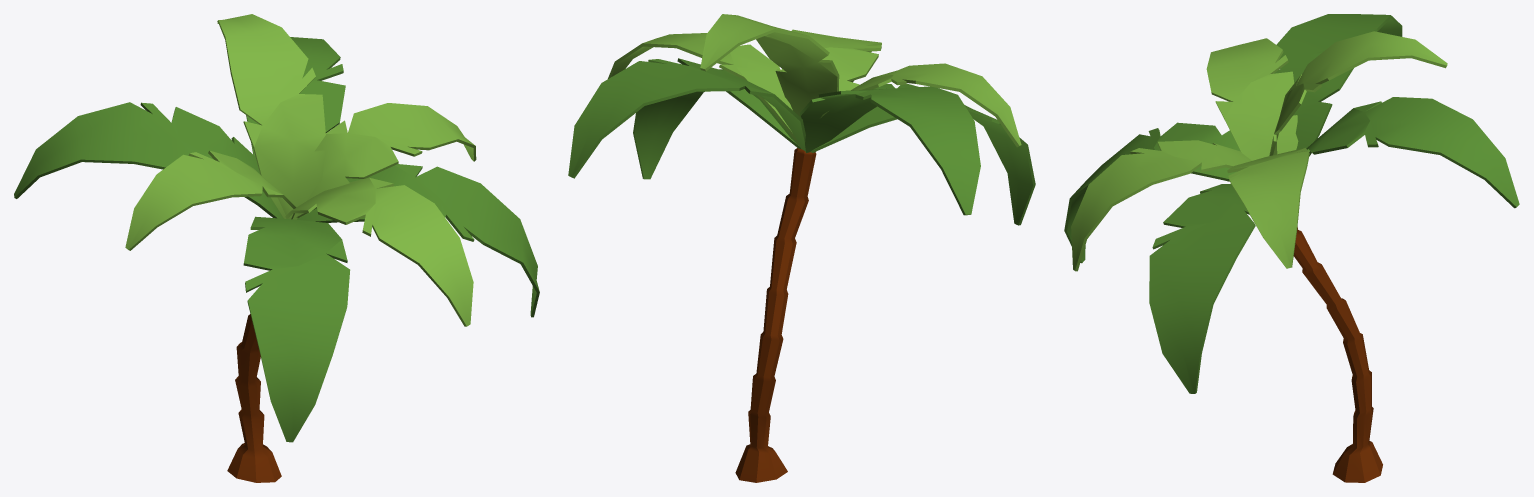
The model's file is coconut_tree.fbx.
The picture shows the model from 3 angles, left to right: view 1: azimuth 30°, elevation 25°; view 2: azimuth 150°, elevation 25°; view 3: azimuth 270°, elevation 25°; orthographic projection. The views are drawn at different scales.
Visible parts, largest first — view 1: coconut; view 2: coconut; view 3: coconut.
Part boxes in pixels (x1,y1,x2,y2): coconut: [14, 14, 539, 482]; coconut: [568, 14, 1035, 482]; coconut: [1064, 14, 1519, 482].
Size of the model in its own units: 3893 by 3850 by 3684.
